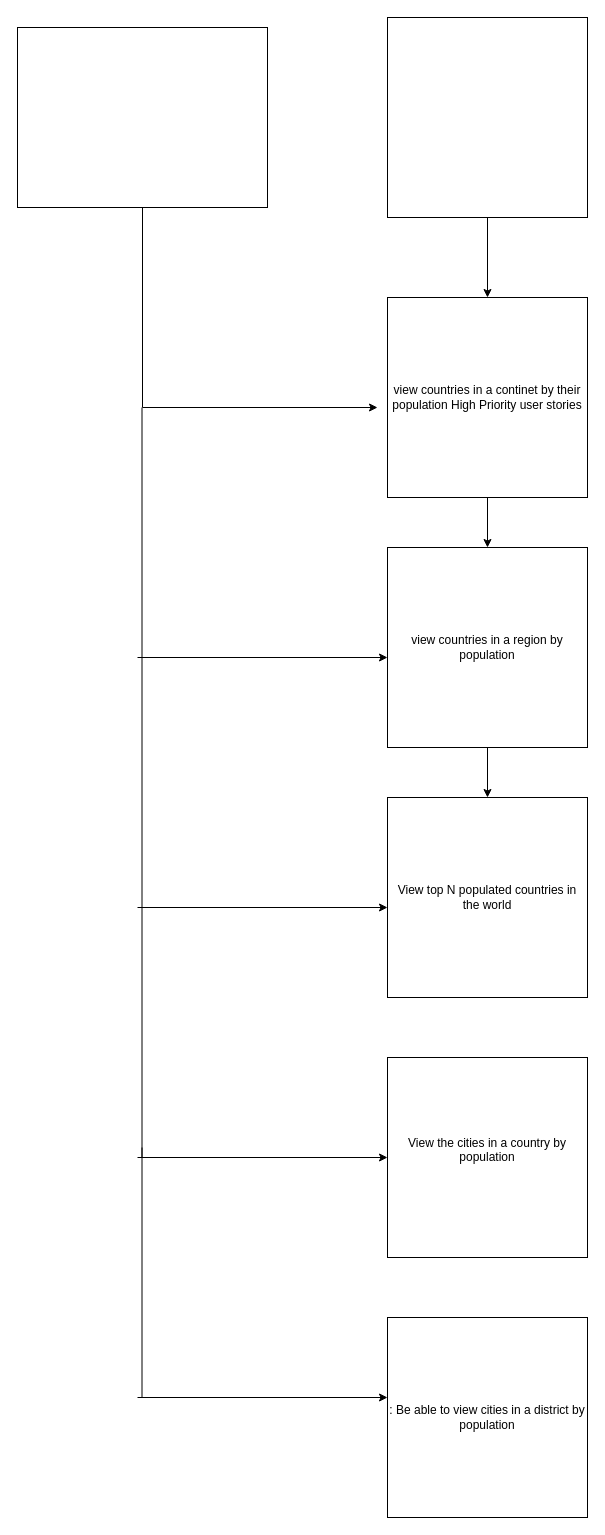
Image size: 605x1535. Some labels were removed from this diagram. The shapes that lost their labels are listed below. From the top down, each one's centre as x and y in pixels, then its label:
At (x=142, y=117): "user".
At (x=487, y=117): "Population reporting system".
